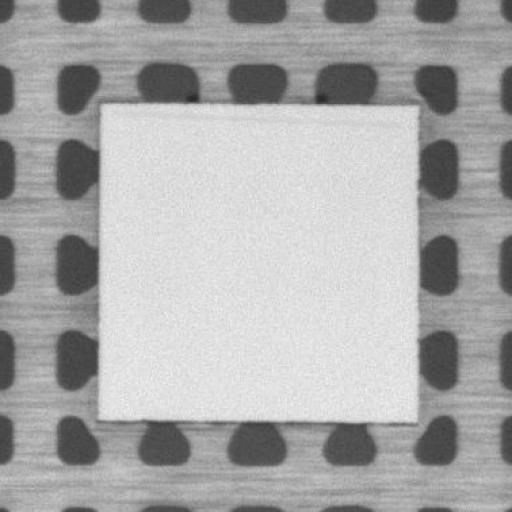DIE_CRACK: (112, 112, 397, 124)
